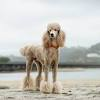dog: (39, 22, 67, 52)
